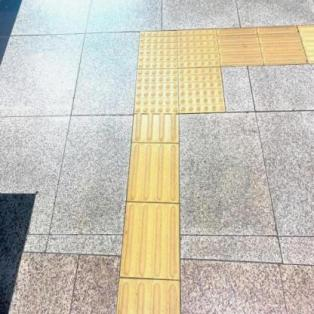Podoctatil: (114, 11, 242, 141), (117, 115, 180, 313), (223, 20, 313, 68)
